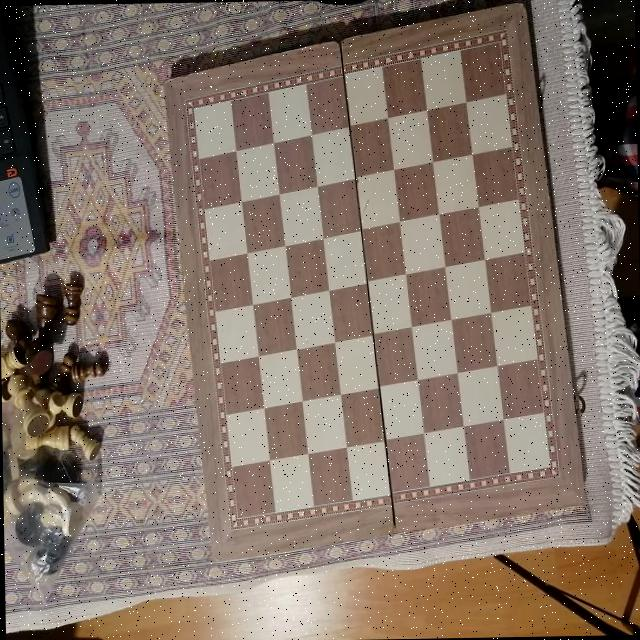corners: (569, 490, 591, 518), (151, 68, 172, 96), (208, 546, 232, 567), (513, 0, 532, 15)
